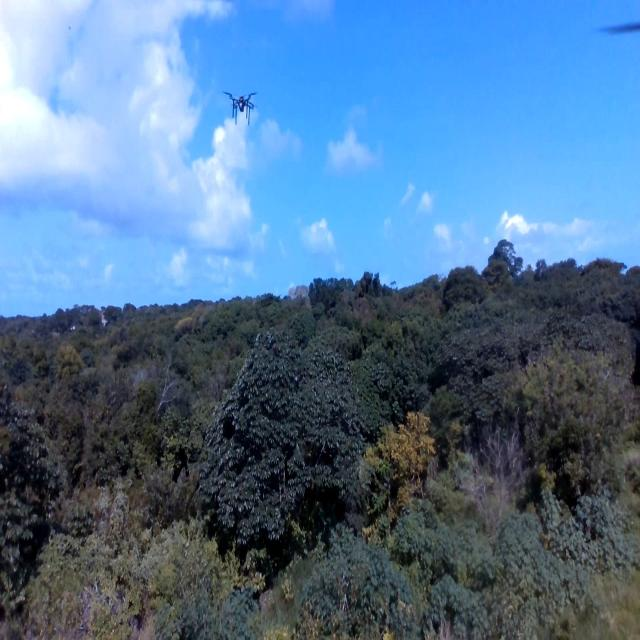-uav-: (213, 76, 269, 138)
